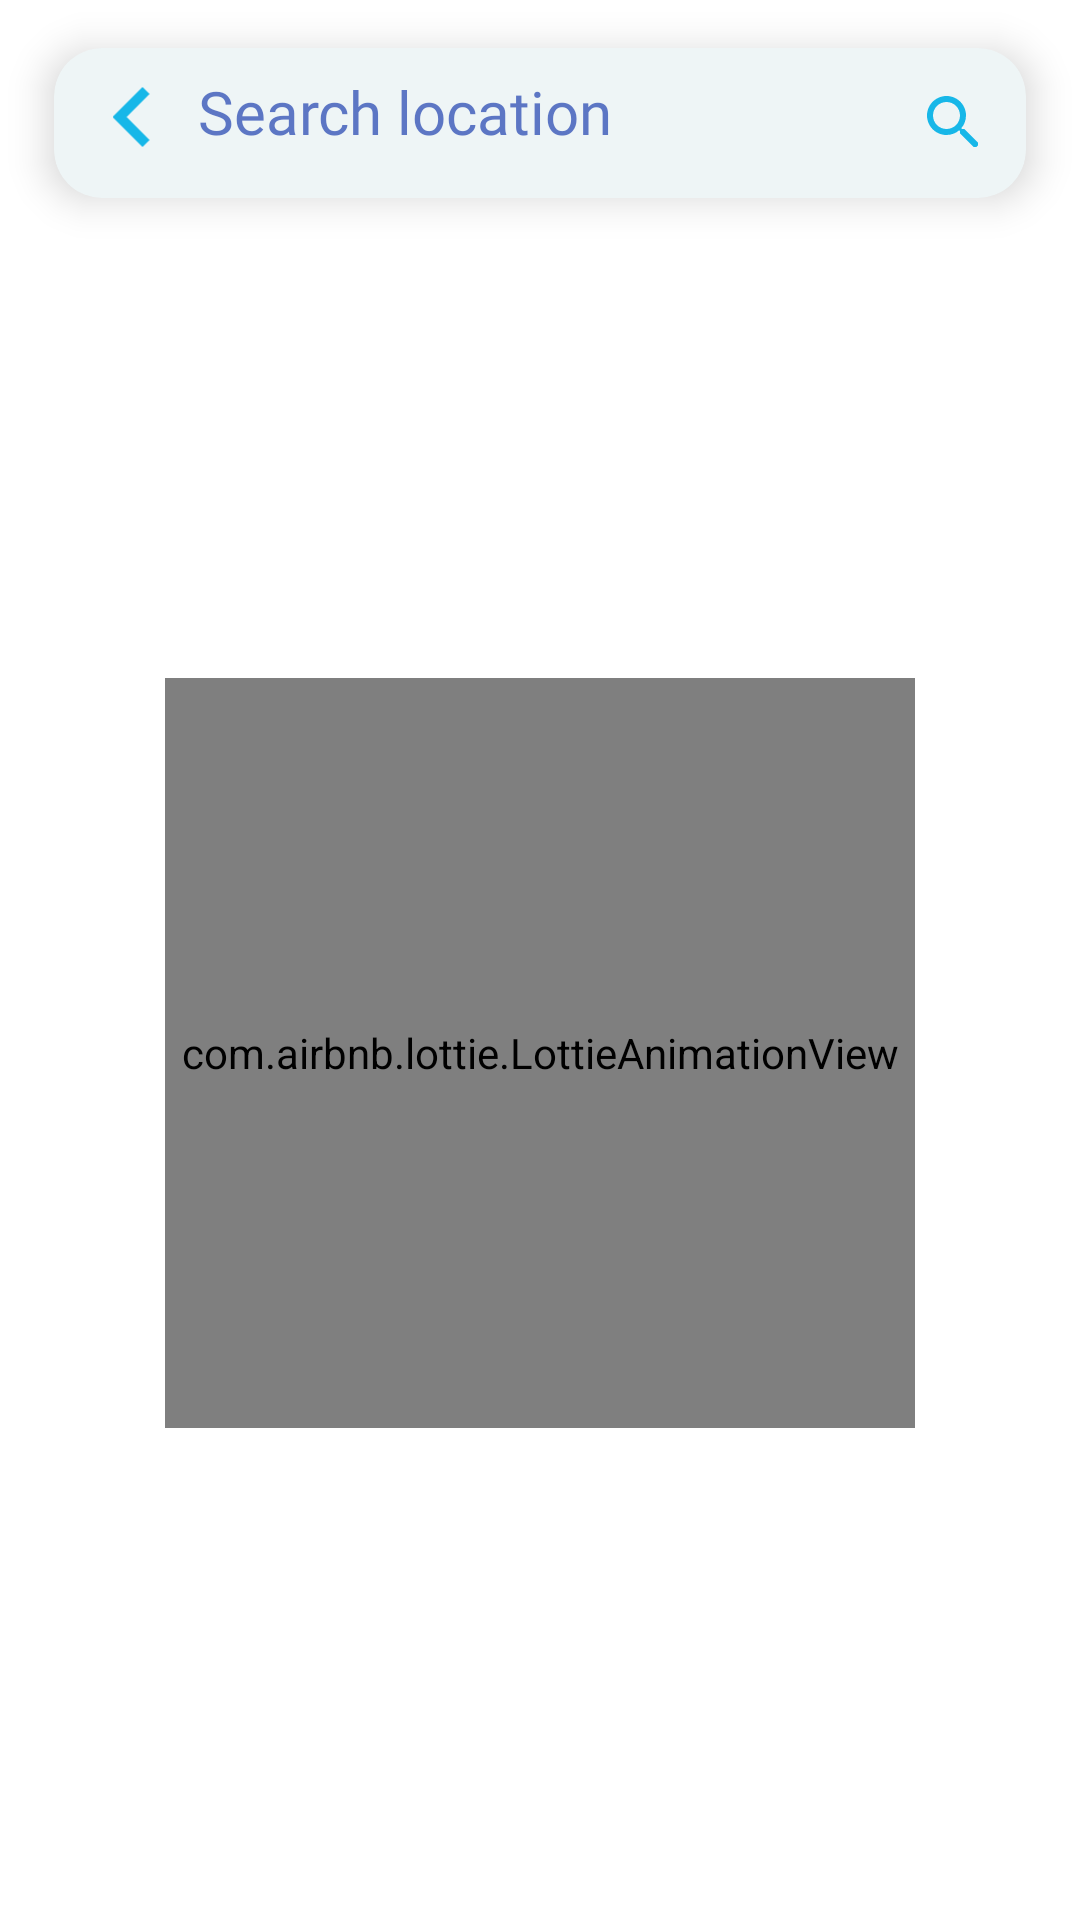

Icon click points for this 1080×1920 phone screenshot, format [x,y]:
back: [131,117]
searchicon: [952,121]
